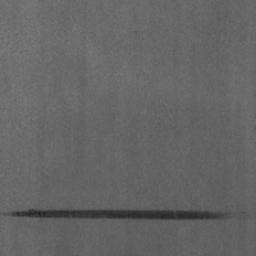Crease: (11, 209, 229, 220)
